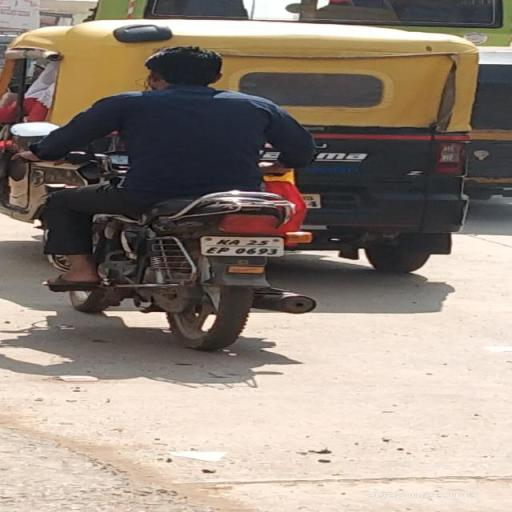bike: (12, 38, 324, 354)
numberplate: (201, 234, 283, 256)
withouthelmet: (150, 47, 224, 85)
